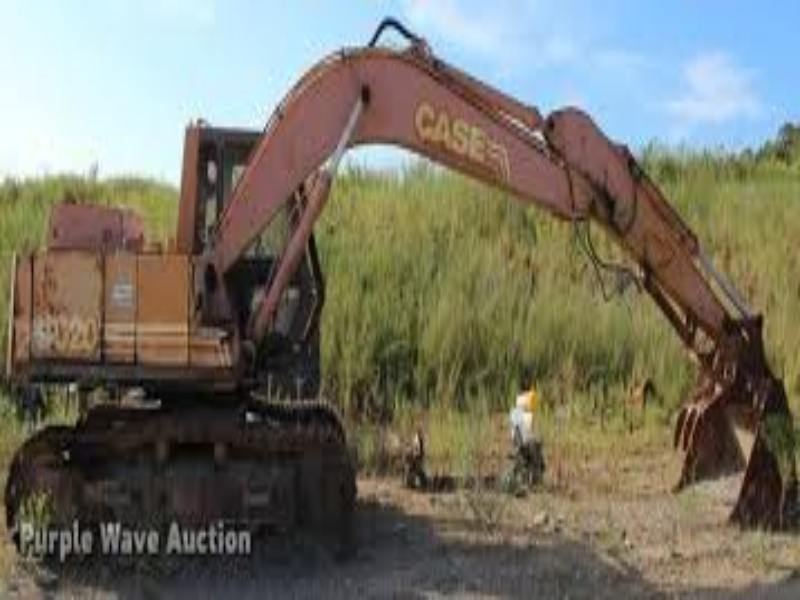wajueji: (4, 77, 436, 595)
